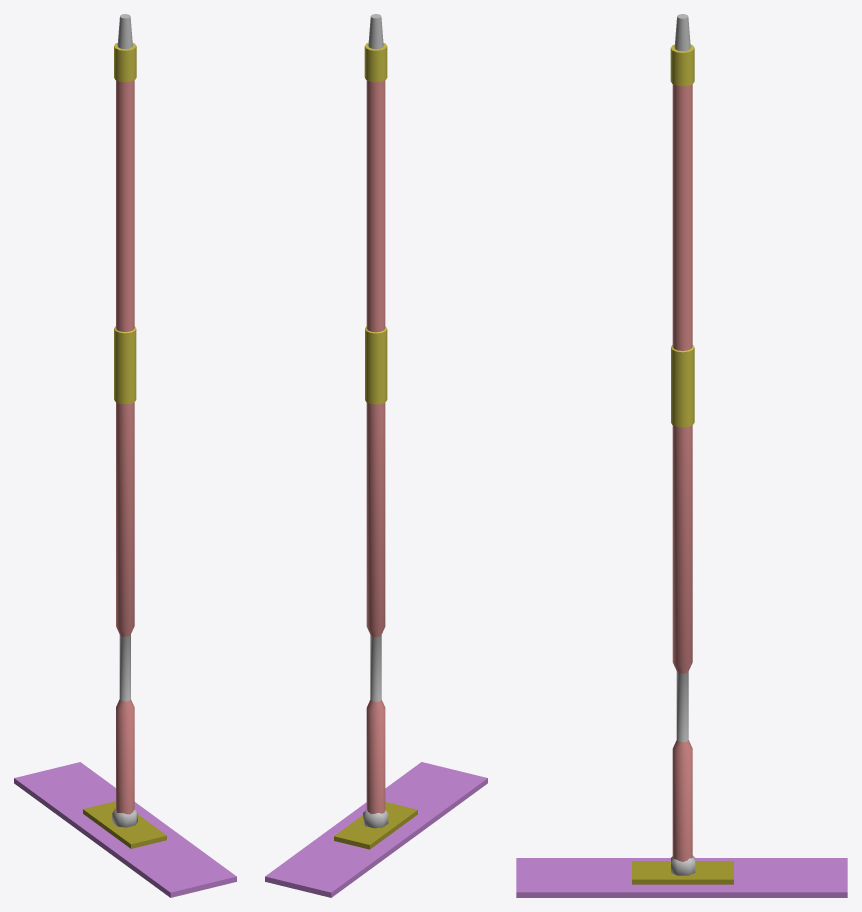
File: Mop.fbx
The picture shows the model from 3 angles, left to right: view 1: azimuth 30°, elevation 25°; view 2: azimuth 150°, elevation 25°; view 3: azimuth 270°, elevation 25°; orthographic projection. The views are drawn at different scales.
Visible parts, largest first — view 1: Mop; view 2: Mop; view 3: Mop.
Boxes of the visible parts, <box> form: Mop: <box>14,14,236,897</box>; Mop: <box>265,14,487,897</box>; Mop: <box>516,14,847,897</box>.
Bounding box in the file's own units: 11.29 × 133 × 46.16.
